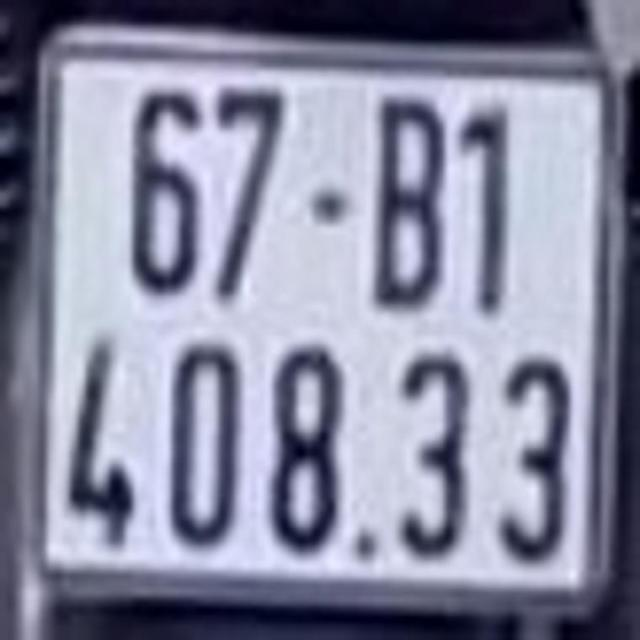0: (166, 339, 240, 547)
1: (458, 98, 518, 314)
3: (398, 348, 469, 558), (500, 356, 570, 562)
4: (65, 334, 138, 549)
6: (129, 84, 202, 294)
7: (211, 83, 286, 300)
8: (270, 339, 342, 554)
B: (372, 90, 447, 311)
